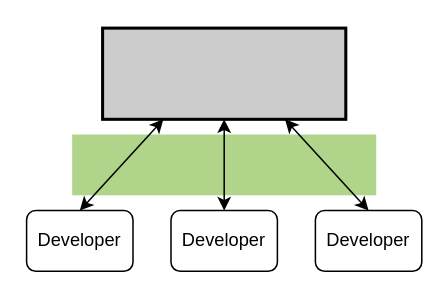
Image size: 448x298. Some labels were removed from this diagram. Here are the shapes that lost their labels. From the top down, the box of each, then its label:
(100, 26, 347, 120): Main Source Code Repository
(71, 134, 375, 195): Individual file changes
